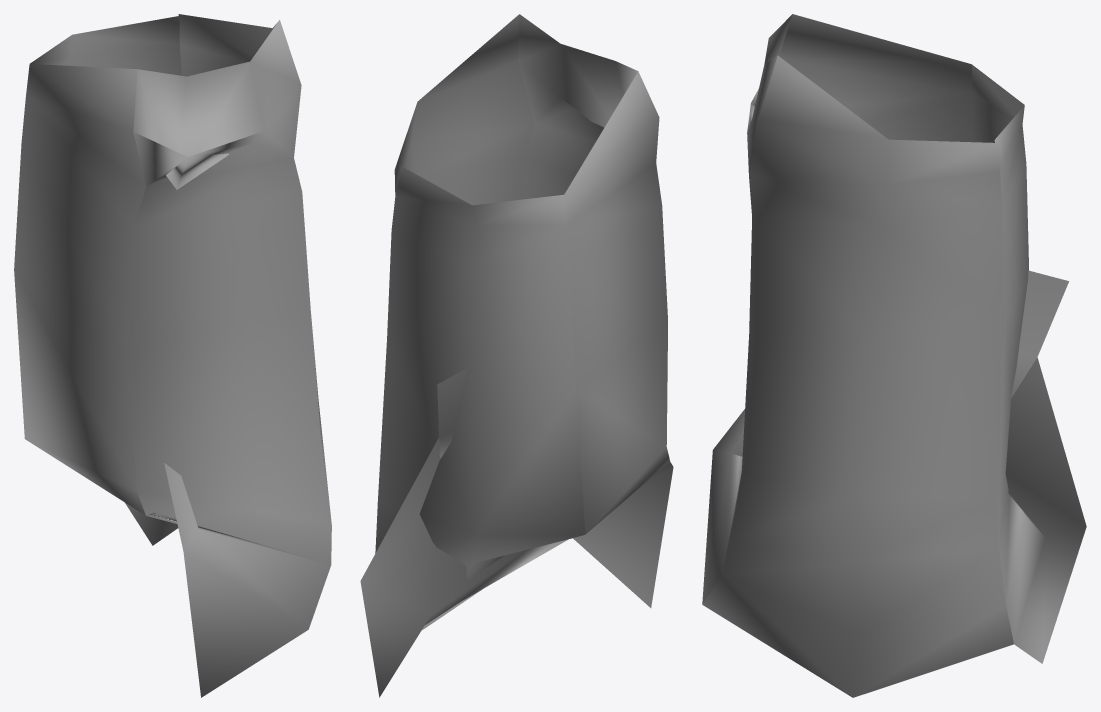
File: left_arm.glb
3 renders of one model, left to right at view 1: azimuth 30°, elevation 25°; view 2: azimuth 150°, elevation 25°; view 3: azimuth 270°, elevation 25°, orthographic. The views are drawn at different scales.
Visible parts, largest first — view 1: sweater-grey_LEFT_ARM; view 2: sweater-grey_LEFT_ARM; view 3: sweater-grey_LEFT_ARM.
Boxes of the visible parts, left/top/right/bottom form: sweater-grey_LEFT_ARM: left=14, top=14, right=331, bottom=697; sweater-grey_LEFT_ARM: left=360, top=14, right=673, bottom=697; sweater-grey_LEFT_ARM: left=702, top=14, right=1086, bottom=697.
Bounding box in the file's own units: 0.1311 × 0.3242 × 0.184.
1 material, 1 textured.
